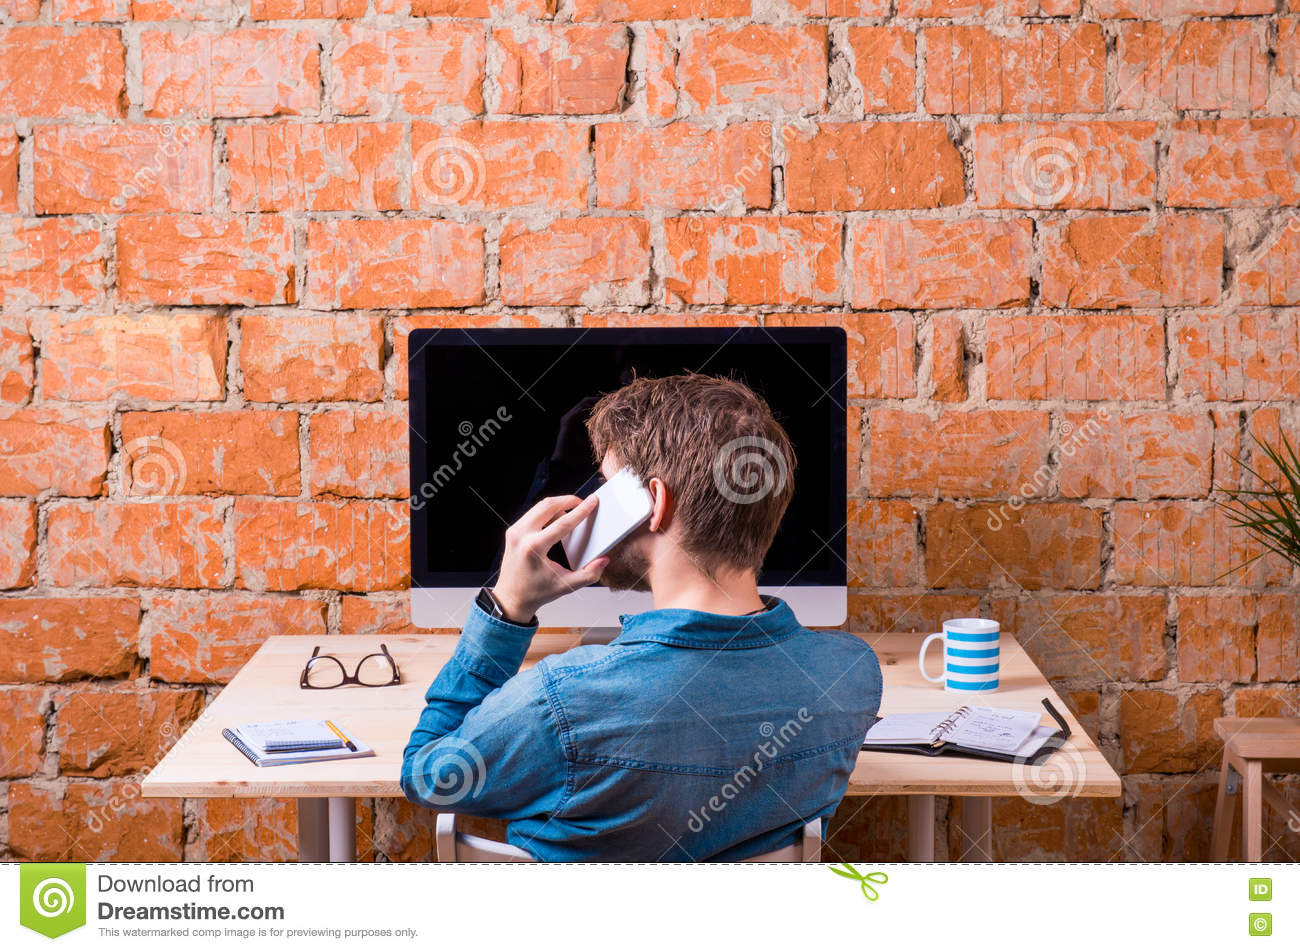phone: (559, 465, 644, 579)
